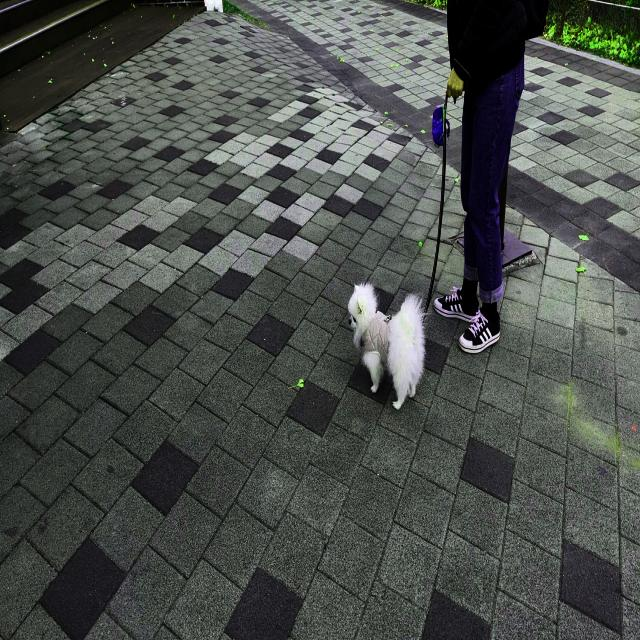Leashed_Dog: (348, 67, 482, 411)
